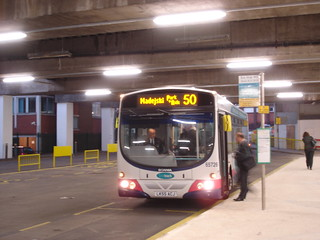bus: (119, 85, 248, 207)
